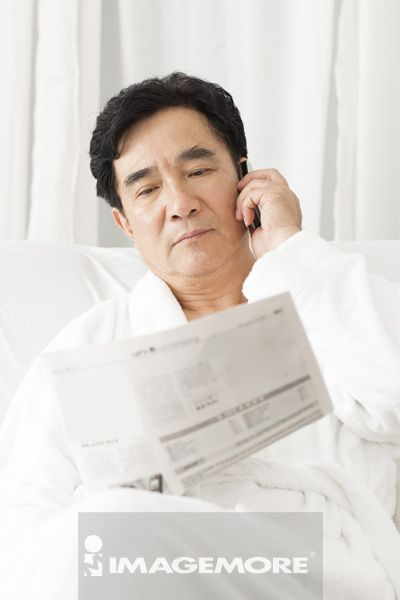talk: (122, 141, 301, 276)
